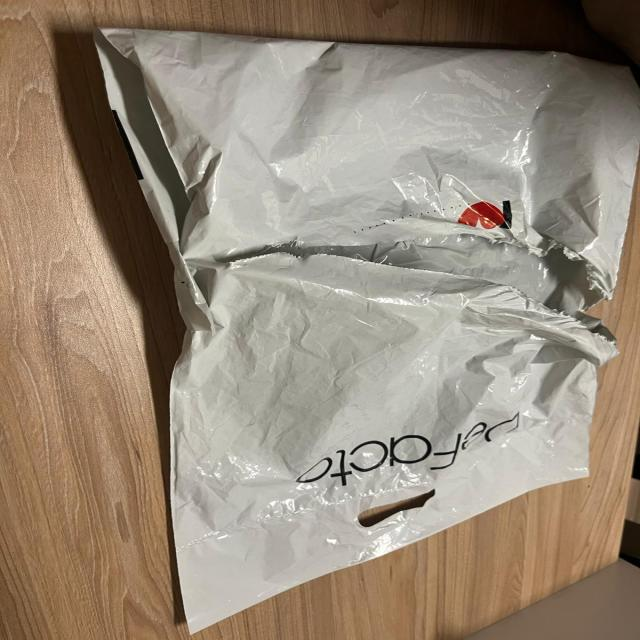damaged_package: (83, 24, 636, 636)
